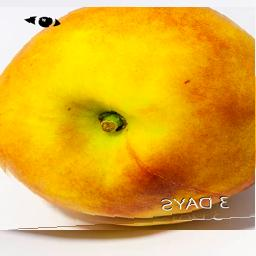Peach Fresh: (1, 8, 256, 231)
